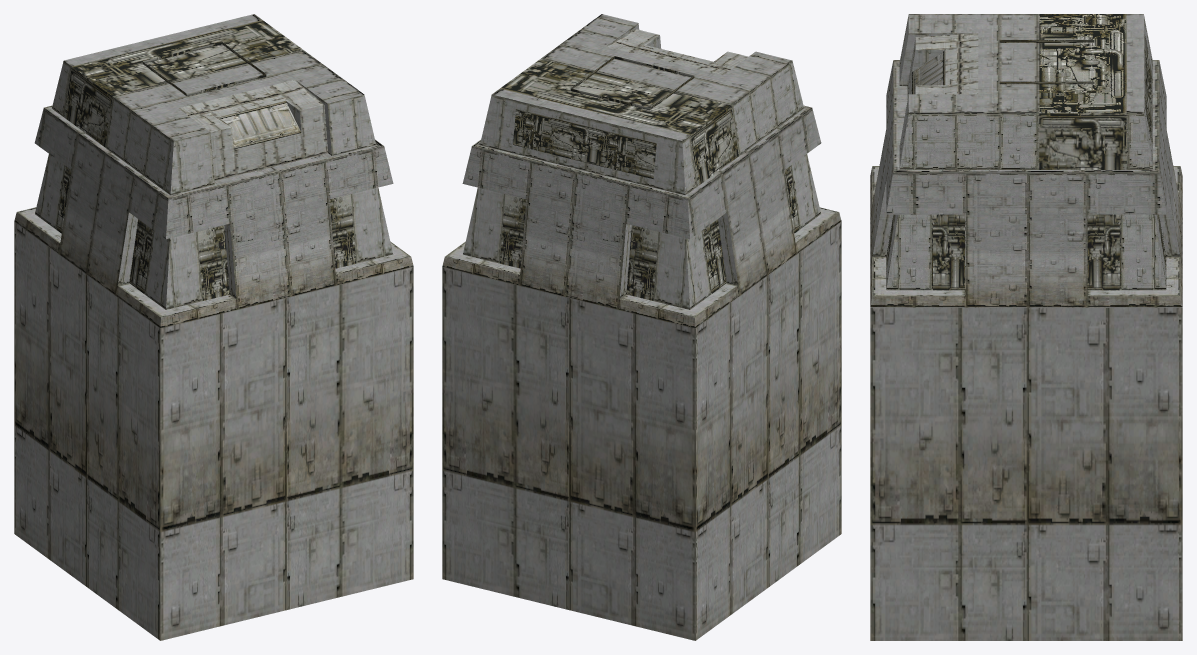
Rendered from ins_all_def_turret_m_s01_l1.fbx.
3 renders of one model, left to right at view 1: azimuth 30°, elevation 25°; view 2: azimuth 150°, elevation 25°; view 3: azimuth 270°, elevation 25°, orthographic. The views are drawn at different scales.
Parts seen in each view (by area): view 1: mesh_node; view 2: mesh_node; view 3: mesh_node.
Boxes of the visible parts, x1,y1,x2,y2 form: mesh_node: (14, 14, 413, 640); mesh_node: (442, 14, 841, 640); mesh_node: (870, 14, 1182, 640).
Bounding box in the file's own units: 3.39 × 6.15 × 3.39.
